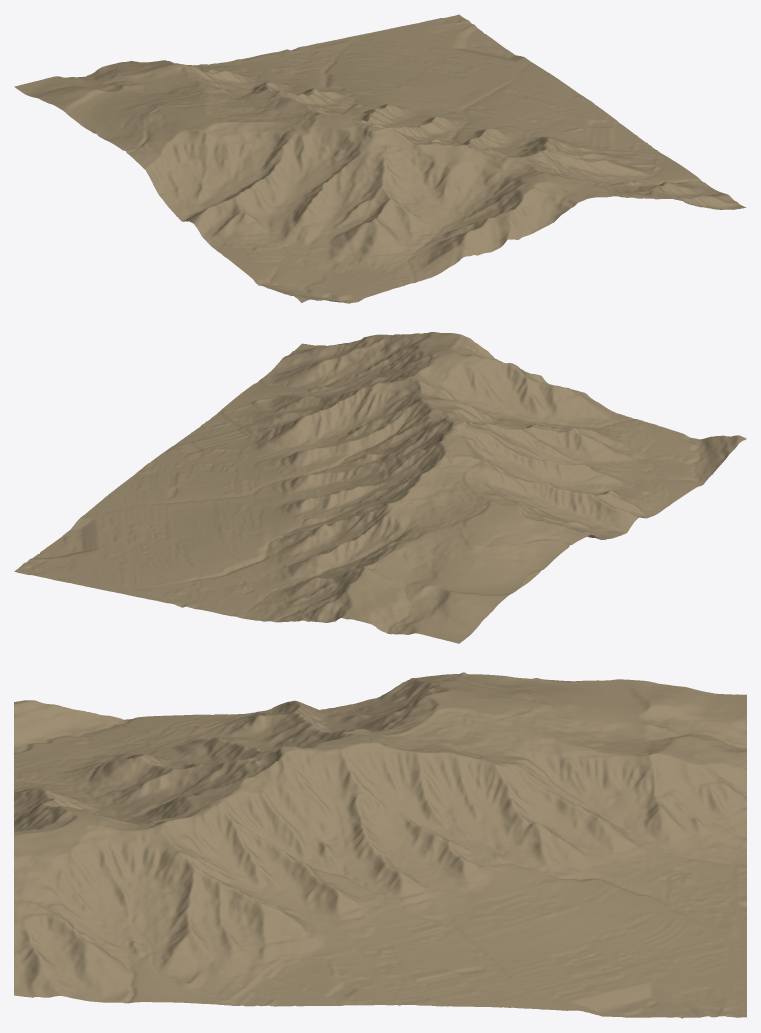
File: terrain-mobile.glb
The picture shows the model from 3 angles, top to bottom: view 1: azimuth 30°, elevation 25°; view 2: azimuth 150°, elevation 25°; view 3: azimuth 270°, elevation 25°; orthographic projection. The views are drawn at different scales.
Parts seen in each view (by area): view 1: Uetliberg_8m; view 2: Uetliberg_8m; view 3: Uetliberg_8m.
Boxes of the visible parts, x1,y1,x2,y2 form: Uetliberg_8m: (14,14,746,303); Uetliberg_8m: (14,332,746,643); Uetliberg_8m: (14,672,746,1018).
Bounding box in the file's own units: 2500 × 446 × 2800.
